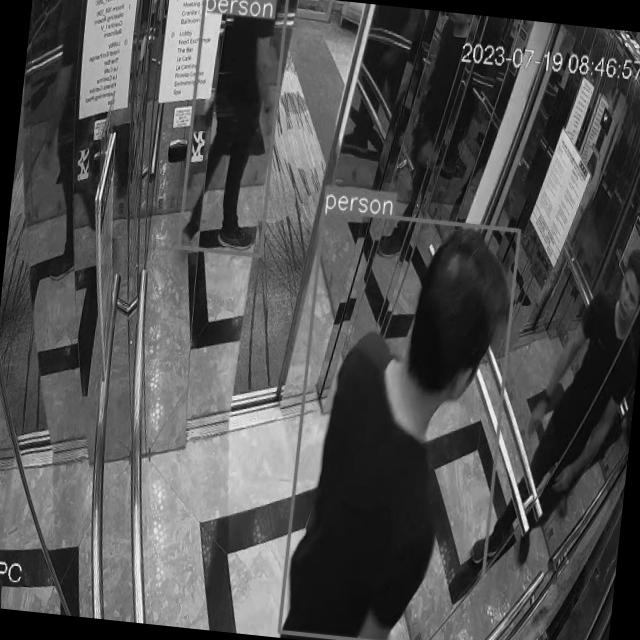person: (277, 206, 519, 640), (479, 219, 640, 640), (175, 0, 285, 254)
